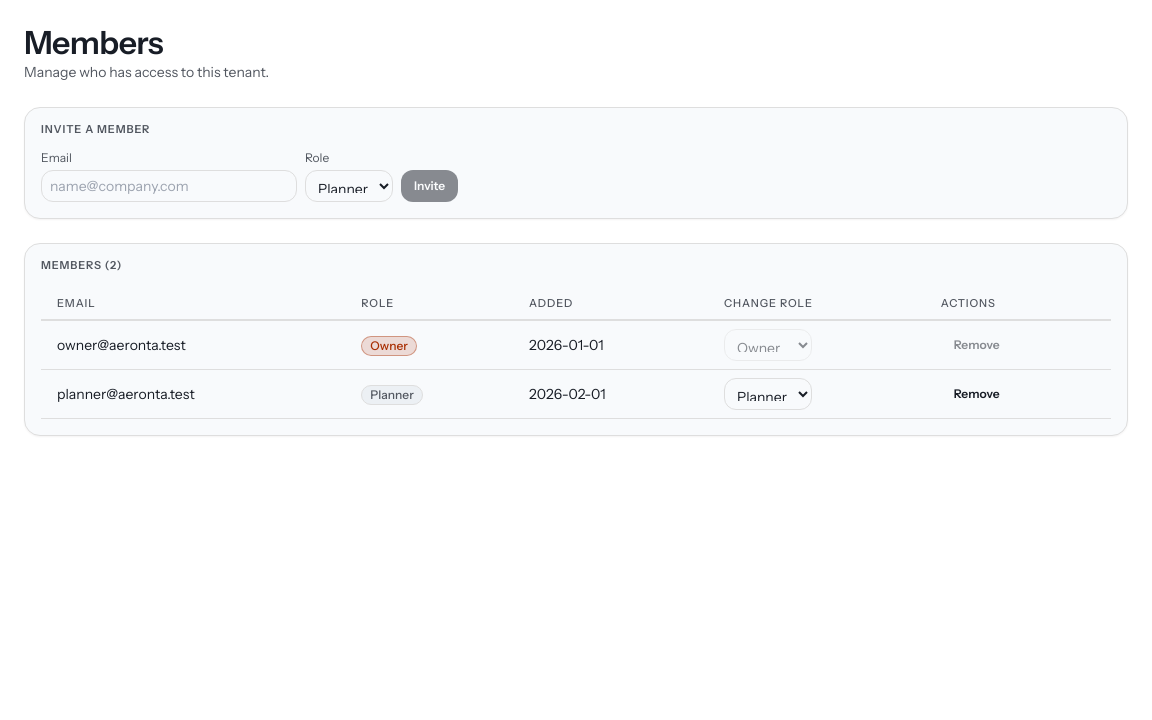
Members › closes the confirm dialog on Escape without deleting (useFocusTrap, WCAG 2.1 AA)
The width and height of the screenshot is (1152, 720).
expect the text "planner@aeronta.test" is shown: met, box [41,370,345,419]
Click the button "Remove" in the row of "planner@aeronta.test". click: (977,394)
box: [941,378,1012,410]
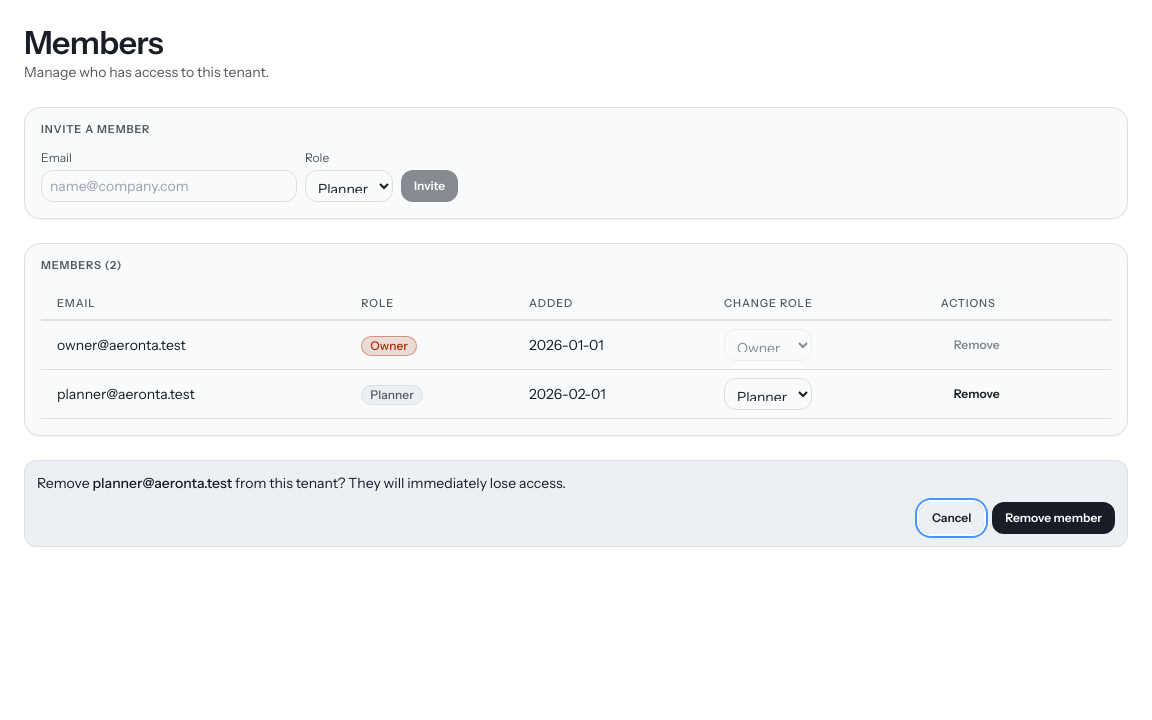
expect the dialog is shown: met, box [24,460,1128,547]
Press Escape
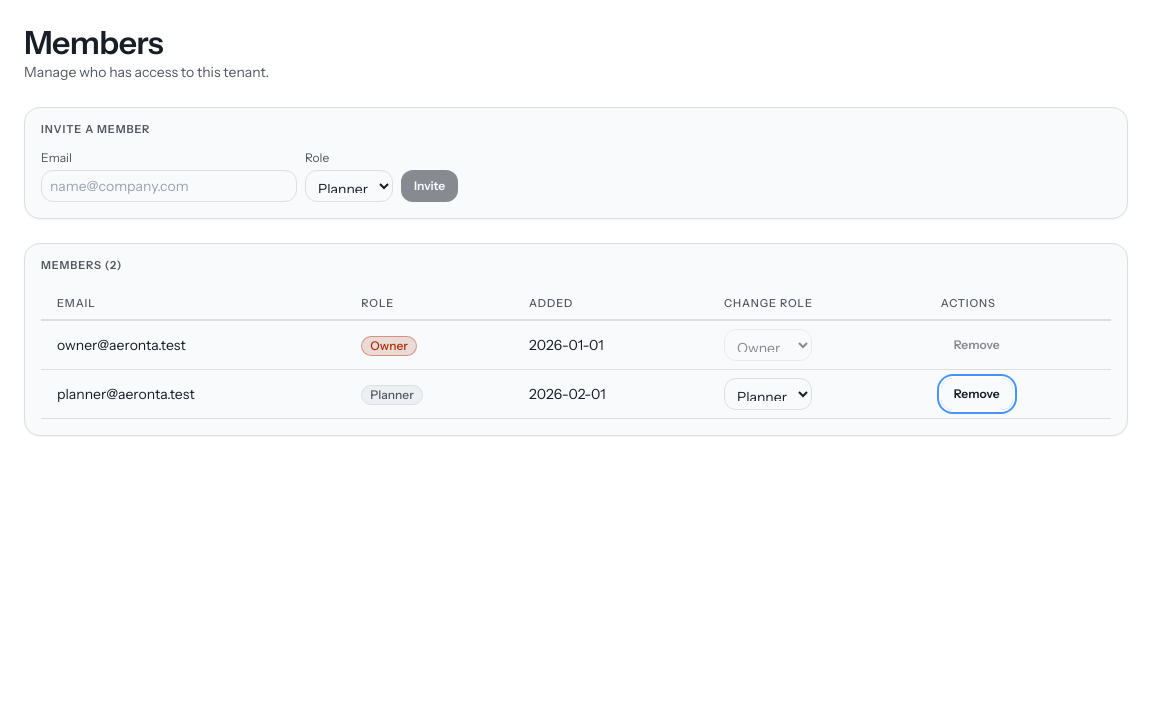
expect the text "planner@aeronta.test" is shown: met, box [41,370,345,419]
expect the dialog is gone: met
